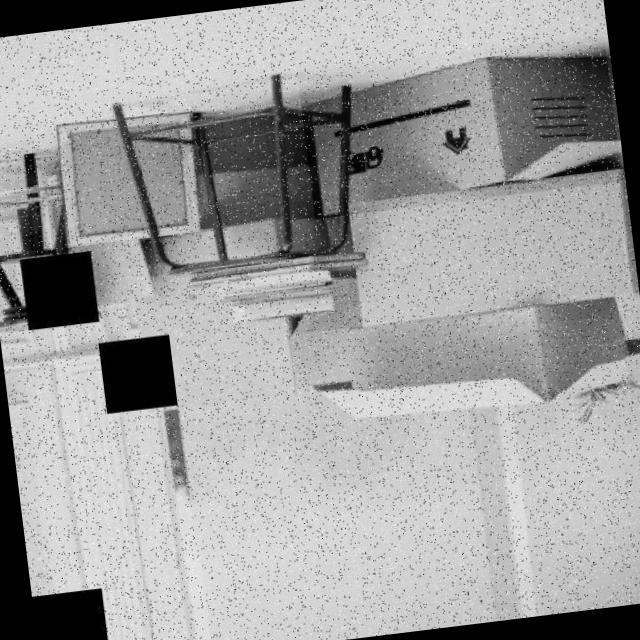box: (296, 34, 622, 218), (329, 162, 634, 346), (350, 291, 628, 414), (125, 247, 307, 430)
